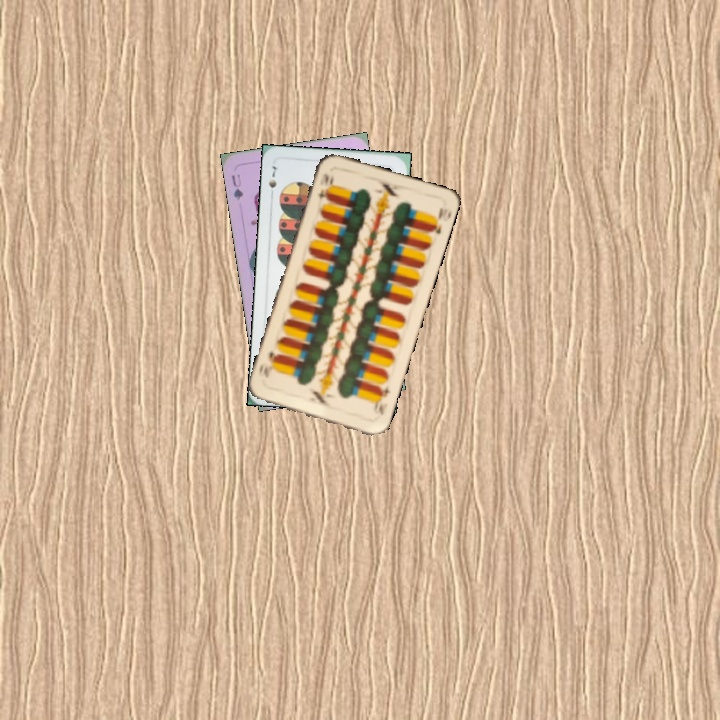E10: (369, 383, 393, 417), (315, 169, 331, 202)
GU: (227, 170, 246, 203)
S7: (265, 162, 279, 201)
